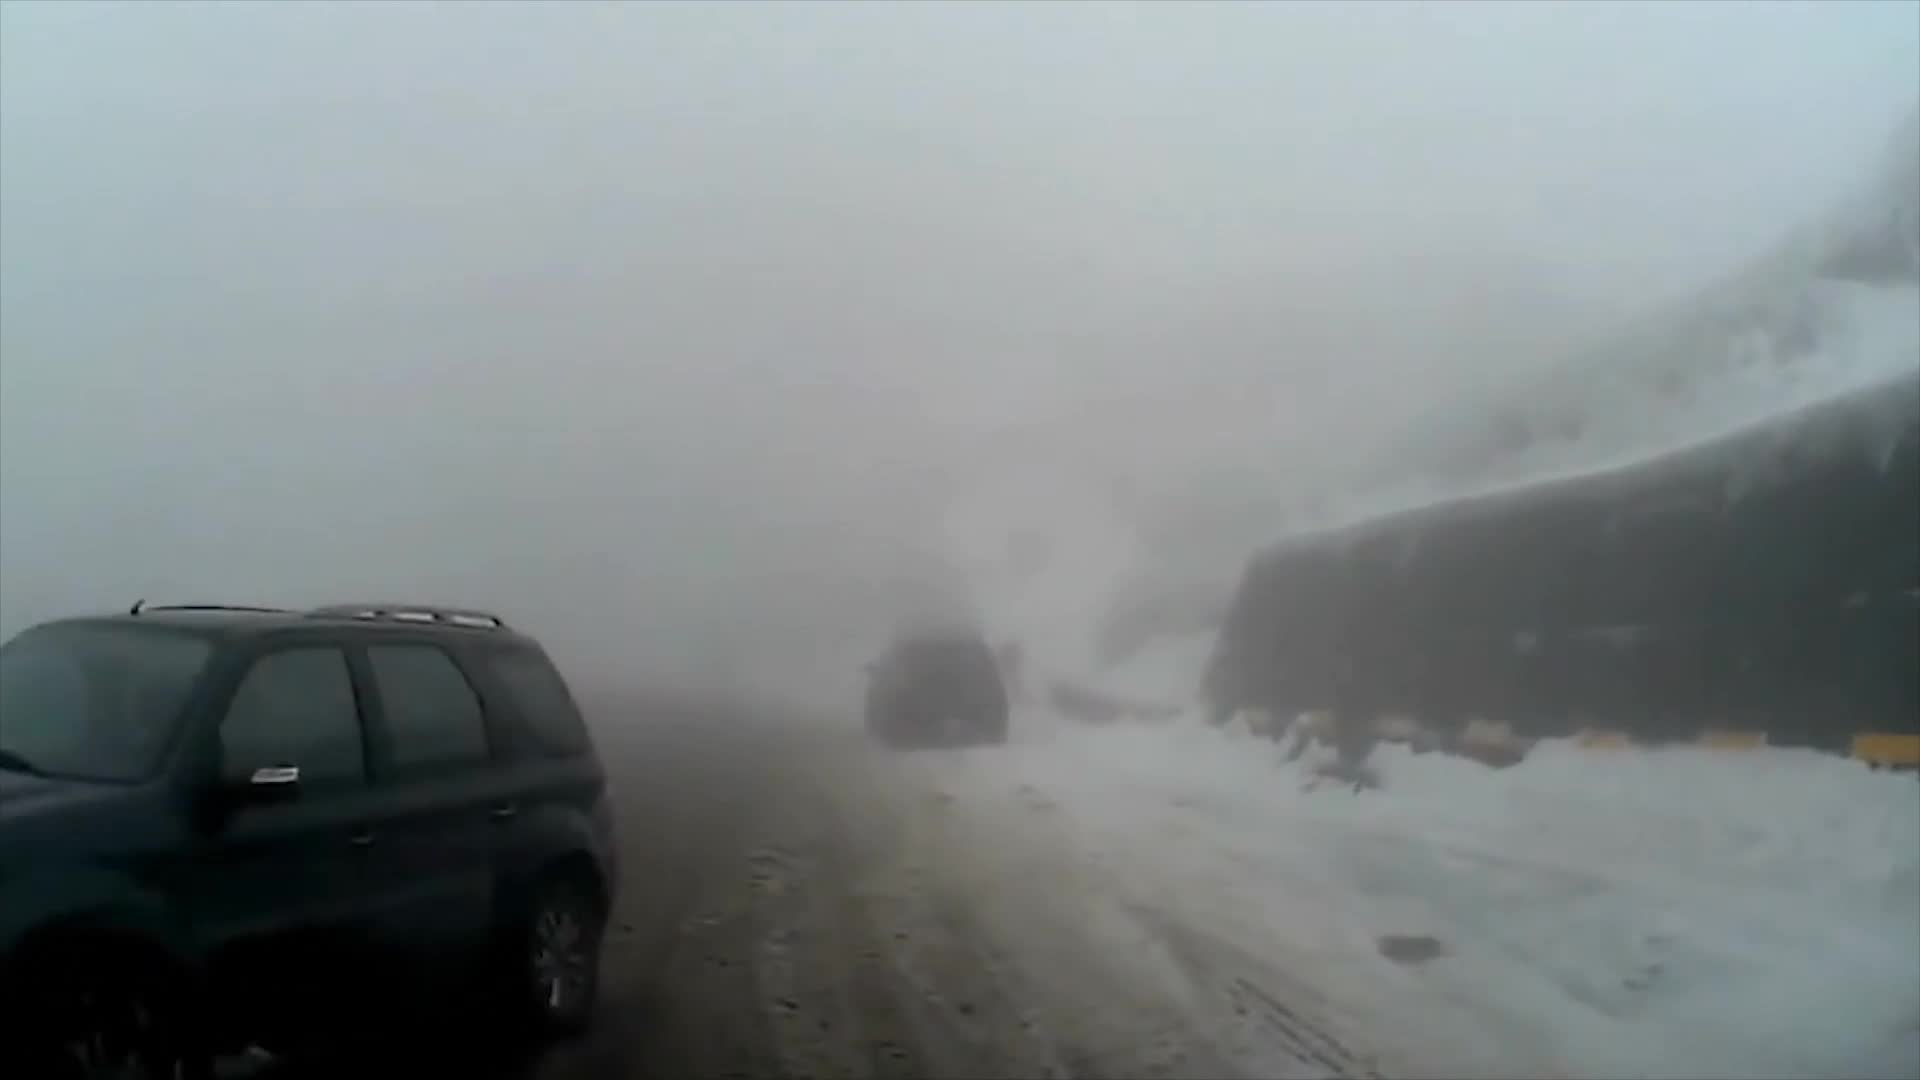vehicle: (0, 595, 622, 1079), (860, 624, 1007, 750)
